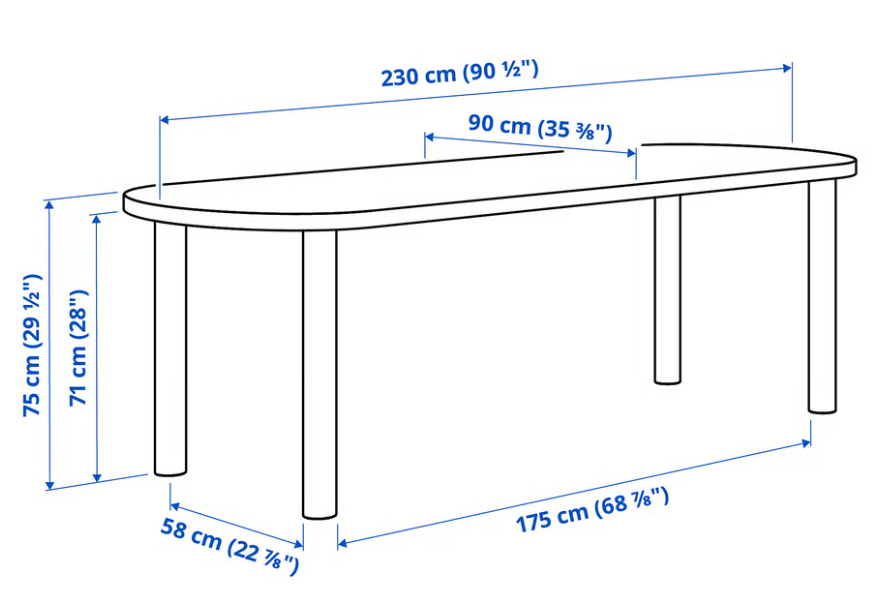table_legs: (303, 230, 337, 519), (155, 221, 186, 475), (809, 179, 836, 413), (655, 195, 680, 384)
table_top: (123, 144, 856, 231)
